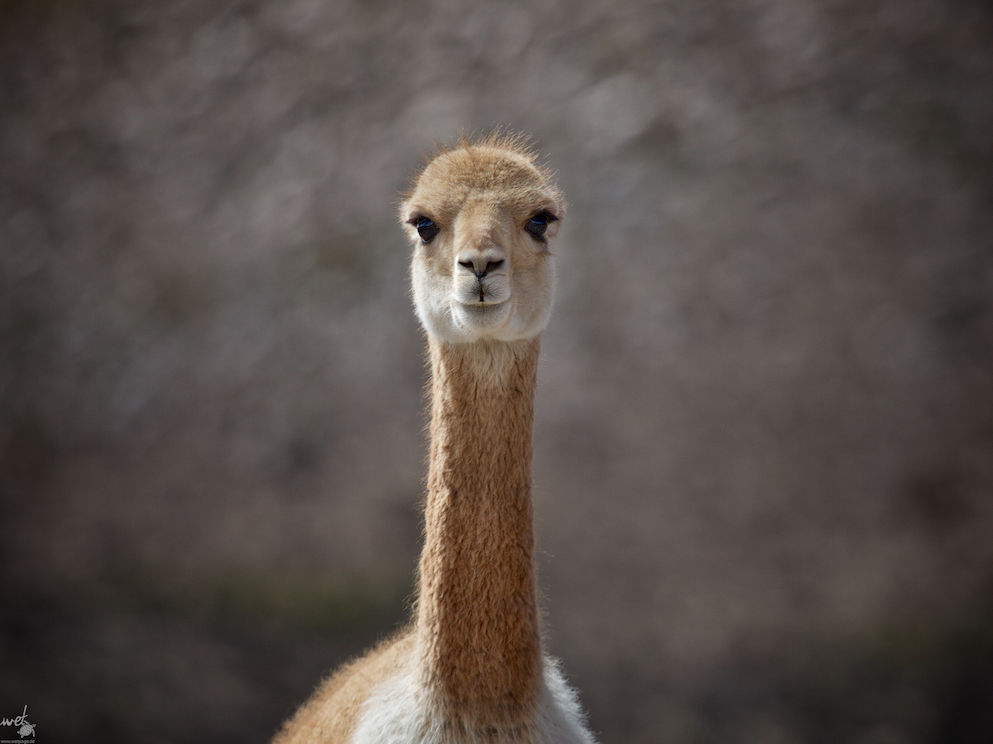eye: (516, 197, 579, 254), (404, 205, 441, 254)
mouth: (447, 270, 520, 335)
